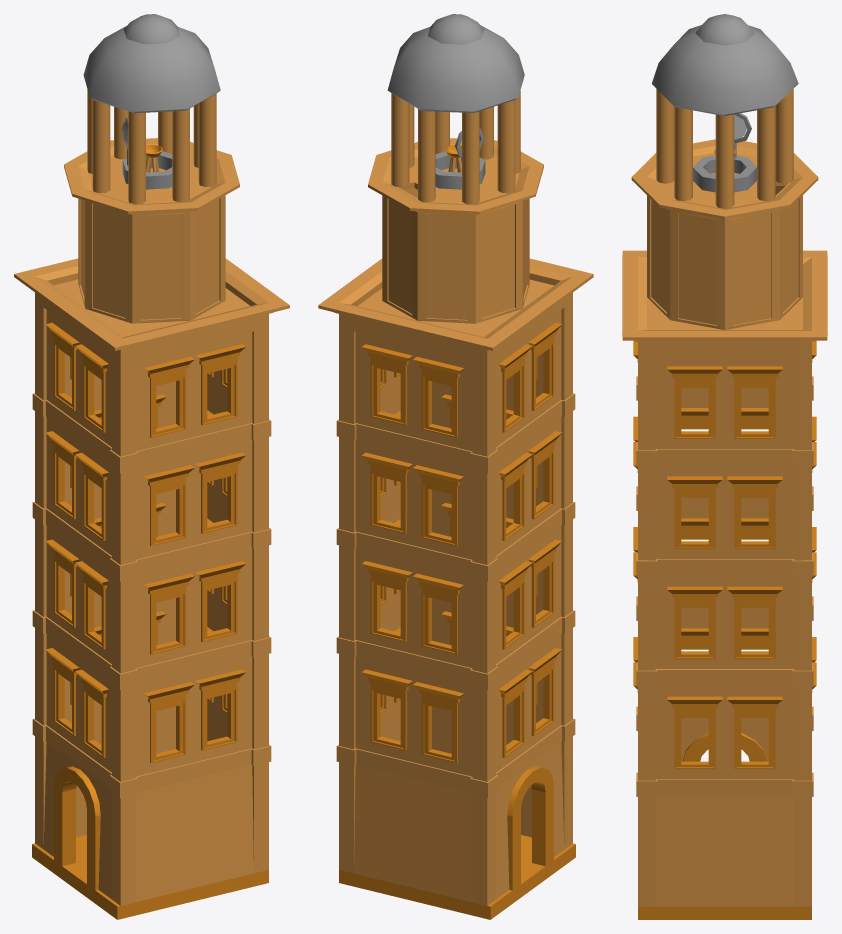
The model's file is Tour.FBX.
3 renders of one model, left to right at view 1: azimuth 30°, elevation 25°; view 2: azimuth 150°, elevation 25°; view 3: azimuth 270°, elevation 25°, orthographic.
Parts seen in each view (by area): view 1: Bati00, Bati01, Toit00, Sol, Porte, Fenetre024, Fenetre026, Fenetre030, Fenetre028, Fenetre027, Fenetre029, Fenetre031 (+17 smaller); view 2: Bati00, Bati01, Toit00, Sol, Porte, Fenetre016, Fenetre022, Fenetre018, Fenetre019, Fenetre020, Fenetre021, Fenetre023 (+17 smaller); view 3: Bati00, Bati01, Toit00, Sol, Fenetre00, Fenetre001, Fenetre002, Fenetre003, Fenetre004, Fenetre005, Fenetre006, Fenetre007 (+14 smaller).
Boxes of the visible parts, bbox=[...] form: Bati00: bbox=[14, 258, 289, 905]; Bati01: bbox=[64, 138, 239, 323]; Toit00: bbox=[83, 26, 220, 113]; Sol: bbox=[32, 835, 268, 919]; Porte: bbox=[54, 766, 100, 890]; Fenetre024: bbox=[195, 669, 245, 750]; Fenetre026: bbox=[195, 561, 245, 642]; Fenetre030: bbox=[195, 344, 245, 425]; Fenetre028: bbox=[195, 452, 245, 533]; Fenetre027: bbox=[144, 573, 194, 654]; Fenetre029: bbox=[144, 465, 194, 546]; Fenetre031: bbox=[144, 356, 194, 437]; Bati00: bbox=[318, 258, 593, 905]; Bati01: bbox=[368, 138, 543, 323]; Toit00: bbox=[387, 25, 524, 112]; Sol: bbox=[339, 835, 575, 919]; Porte: bbox=[507, 766, 553, 890]; Fenetre016: bbox=[362, 669, 412, 750]; Fenetre022: bbox=[362, 344, 412, 425]; Fenetre018: bbox=[362, 561, 412, 642]; Fenetre019: bbox=[413, 573, 463, 654]; Fenetre020: bbox=[362, 452, 412, 533]; Fenetre021: bbox=[413, 465, 463, 546]; Fenetre023: bbox=[413, 356, 463, 437]; Bati00: bbox=[622, 250, 827, 906]; Bati01: bbox=[631, 139, 818, 329]; Toit00: bbox=[652, 25, 798, 115]; Sol: bbox=[638, 906, 811, 919]; Fenetre00: bbox=[667, 696, 722, 769]; Fenetre001: bbox=[727, 696, 782, 769]; Fenetre002: bbox=[667, 586, 722, 659]; Fenetre003: bbox=[727, 586, 782, 659]; Fenetre004: bbox=[667, 476, 722, 549]; Fenetre005: bbox=[727, 476, 782, 549]; Fenetre006: bbox=[667, 366, 722, 438]; Fenetre007: bbox=[727, 366, 782, 438].
Bounding box in the file's own units: 1182 × 5506 × 1182.
